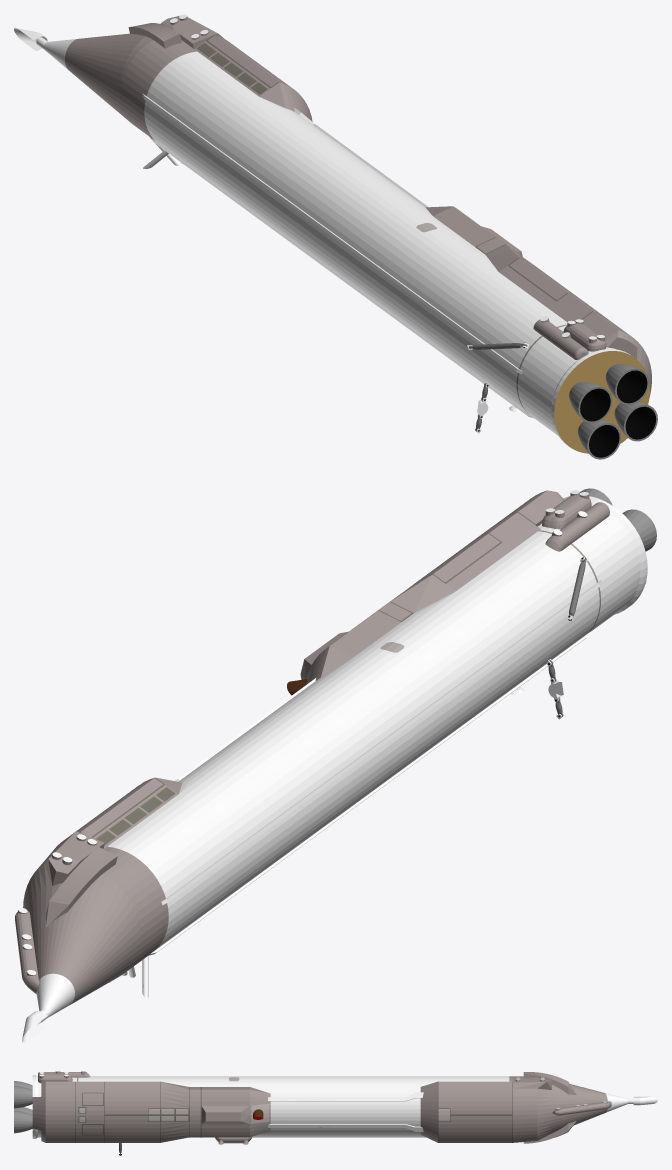
The model's file is booster2.obj.
3 renders of one model, top to bottom at view 1: azimuth 30°, elevation 25°; view 2: azimuth 150°, elevation 25°; view 3: azimuth 270°, elevation 25°, orthographic. The views are drawn at different scales.
Visible parts, largest first — view 1: group2, group1, group4, group10, group8, group0; view 2: group2, group1, group0, group8; view 3: group1, group2, group0, group7, group8.
Part boxes in pixels (box(x1,y1,x2,y2)): group2: box(14, 14, 630, 444); group1: box(65, 15, 651, 413); group4: box(580, 370, 656, 457); group10: box(554, 351, 649, 453); group8: box(569, 364, 657, 459); group0: box(197, 34, 601, 319); group2: box(18, 490, 647, 1042); group1: box(15, 490, 609, 1005); group0: box(58, 512, 535, 845); group8: box(580, 488, 656, 583); group1: box(32, 1071, 611, 1143); group2: box(32, 1071, 657, 1144); group0: box(75, 1081, 512, 1142); group7: box(79, 1077, 449, 1123); group8: box(14, 1081, 32, 1133).
Size of the model in its own units: 5.15 by 4.98 by 37.7.
